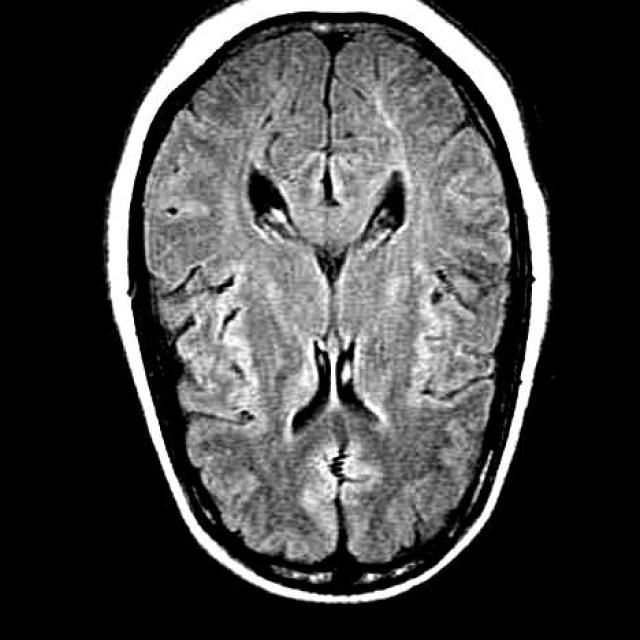notumor: (107, 0, 550, 603)
